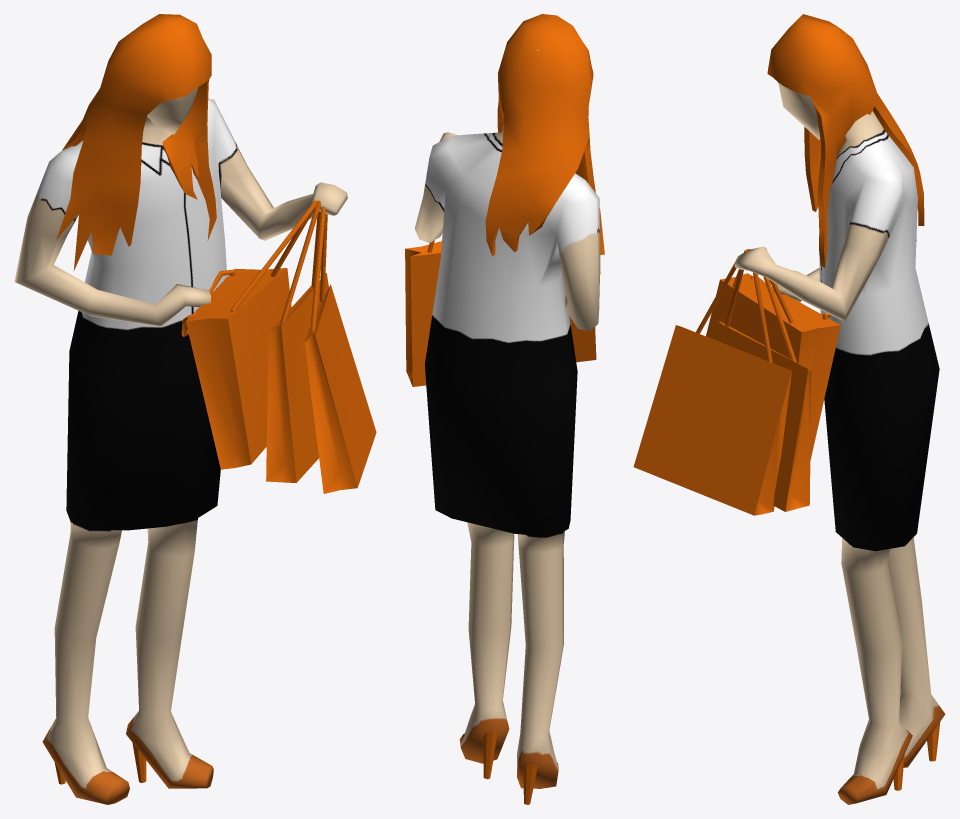
The model's file is Low_Poly_Business_Girl_002.glb.
3 renders of one model, left to right at view 1: azimuth 30°, elevation 25°; view 2: azimuth 150°, elevation 25°; view 3: azimuth 270°, elevation 25°, orthographic. The views are drawn at different scales.
Parts seen in each view (by area): view 1: unnamed (×4); view 2: unnamed (×5); view 3: unnamed (×4).
Part boxes in pixels (x1,y1,x2,y2): unnamed (×4): (14,14,376,804); unnamed (×5): (405,14,604,804); unnamed (×4): (633,14,945,804).
Bounding box in the file's own units: 786 × 2135 × 794.
2 materials, 1 textured.
